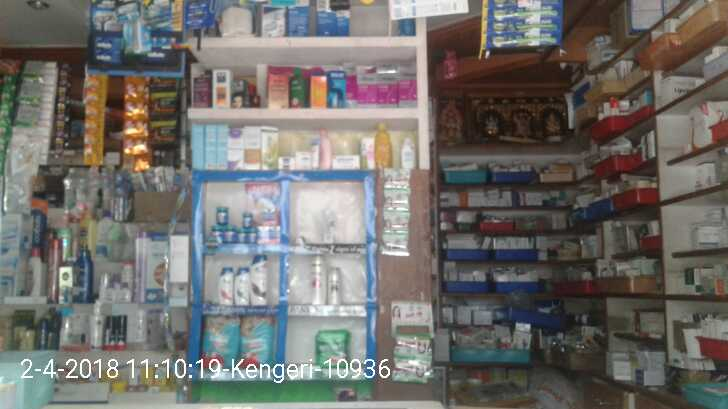vicks: (207, 203, 259, 242), (259, 224, 282, 242)
